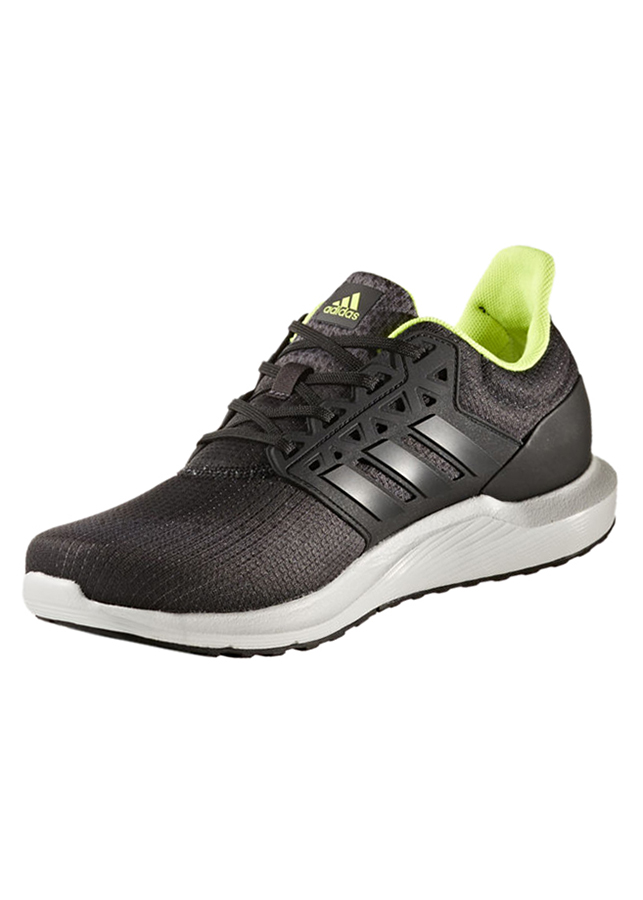Adidas: (318, 286, 370, 328)
